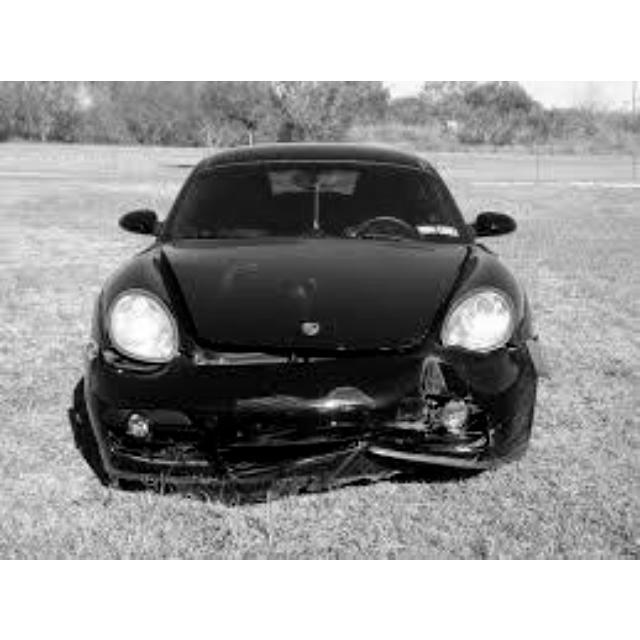front-bumper-dent: (149, 370, 440, 468)
